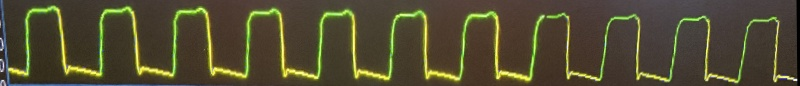normal_pressure: (0, 4, 795, 86)
